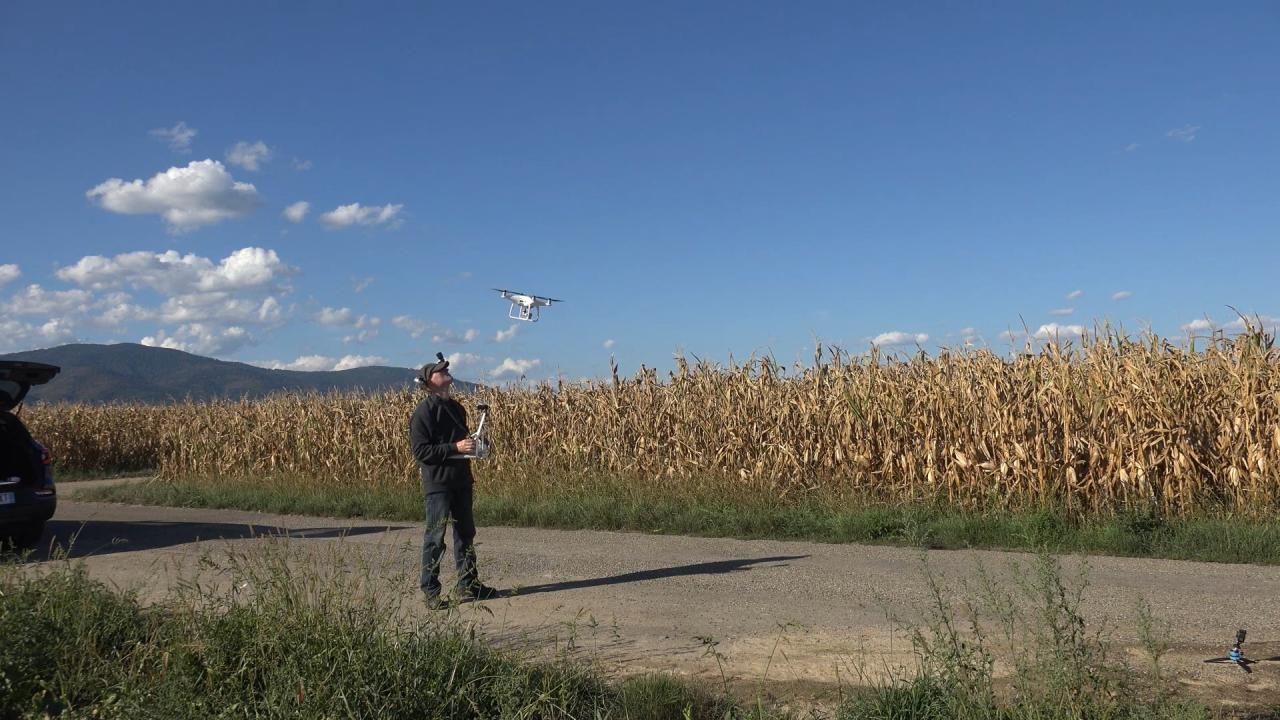Drone: (490, 282, 567, 332)
